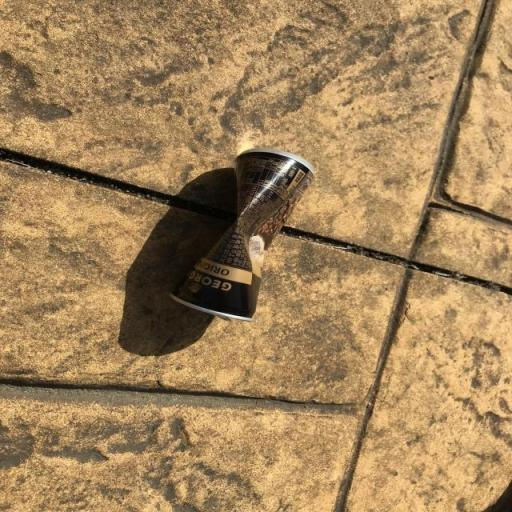metal: (162, 135, 322, 326)
